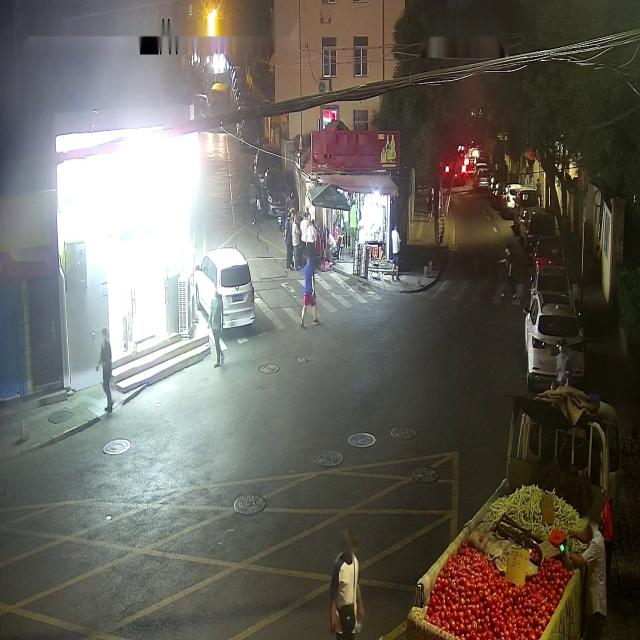car: (408, 379, 622, 636)
fixed_stall: (424, 480, 594, 633)
sunshade: (319, 171, 399, 199), (304, 182, 352, 209)
